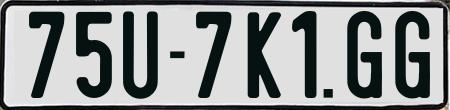1: (289, 8, 318, 101)
5: (76, 12, 114, 100)
7: (28, 11, 67, 97), (196, 12, 232, 103)
G: (347, 11, 387, 104), (392, 11, 428, 102)
K: (246, 10, 282, 101)
U: (122, 8, 159, 97)
